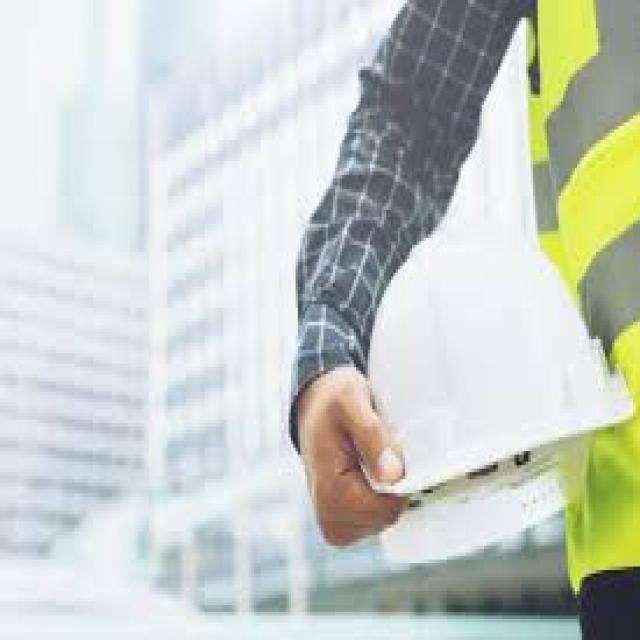Reflective-Jacket: (540, 73, 640, 605)
